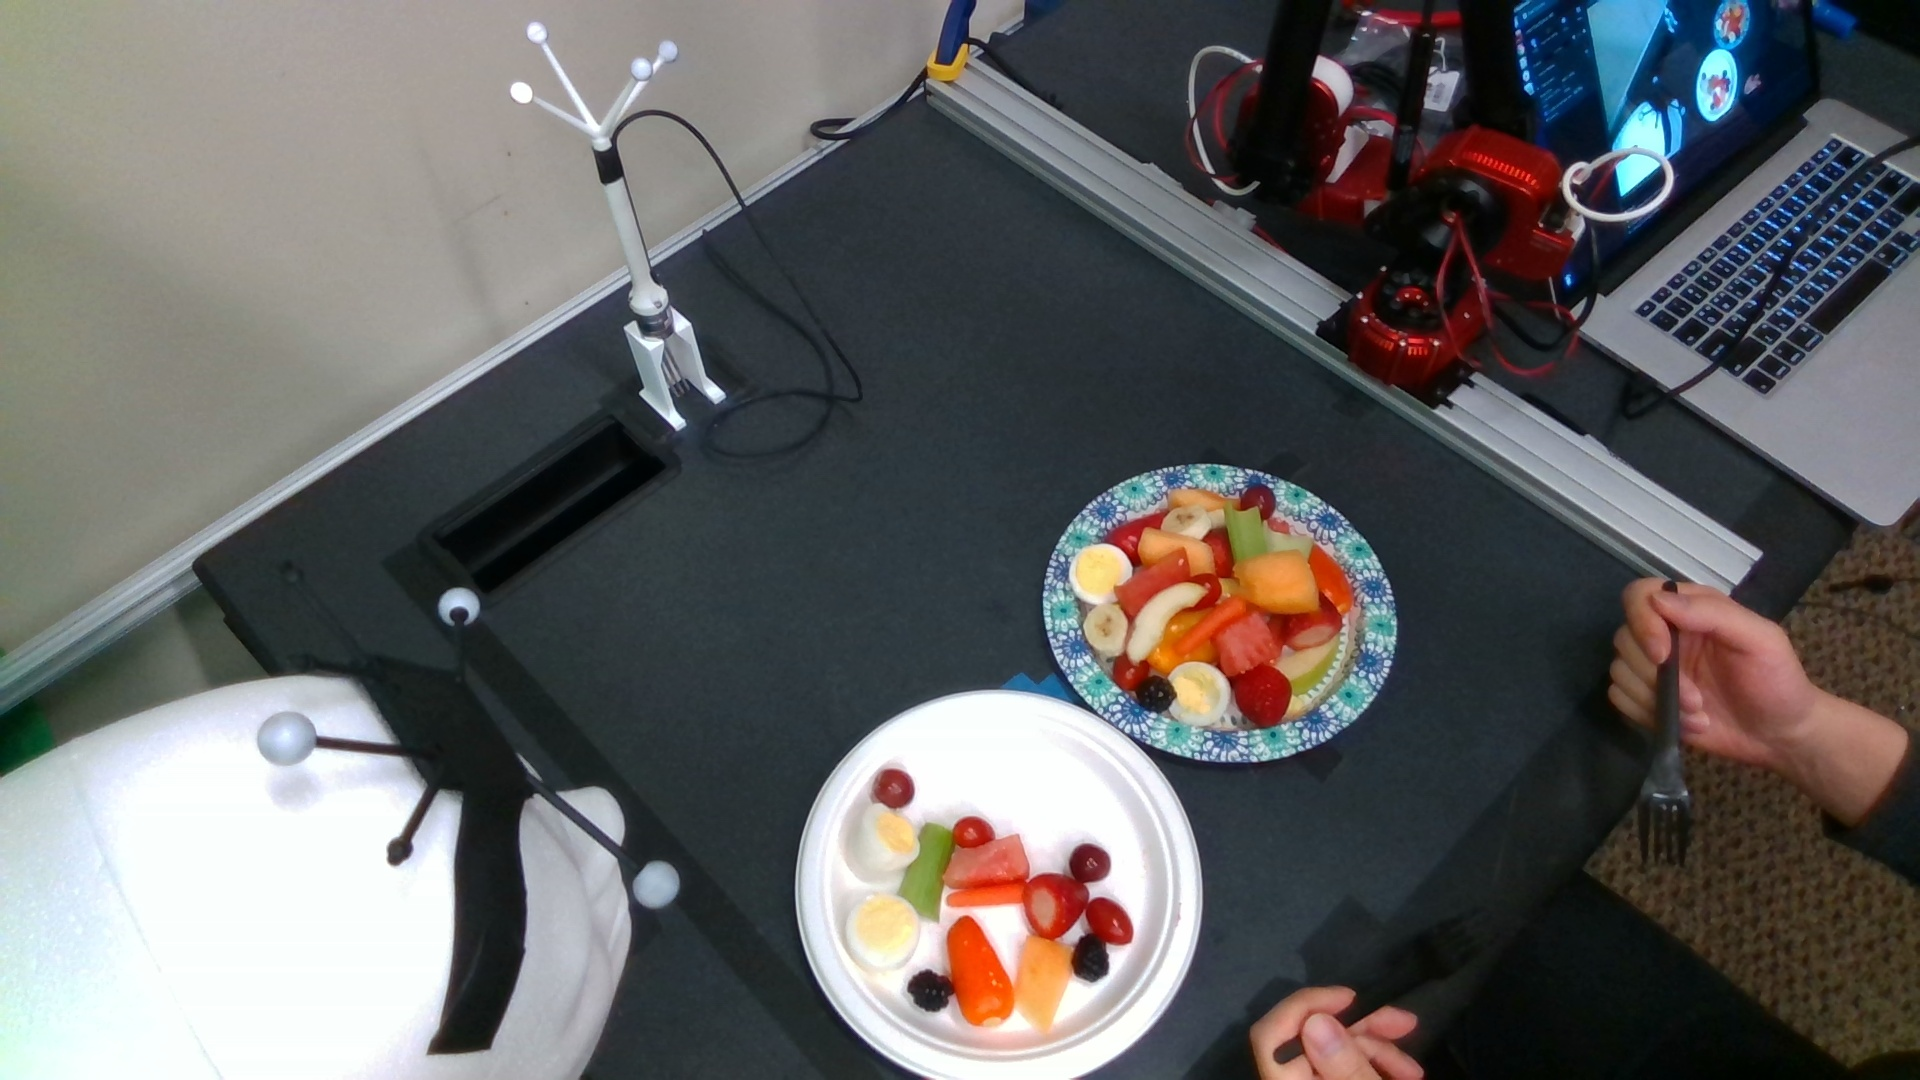apple: (1127, 588, 1203, 657), (1287, 636, 1340, 698)
banana: (1077, 605, 1131, 659), (1160, 504, 1212, 538)
bell_pepper: (943, 916, 1013, 1029), (1311, 550, 1356, 618)
blackberry: (1069, 935, 1114, 981), (905, 971, 952, 1011), (1138, 680, 1176, 712)
cantalope: (1005, 940, 1083, 1029), (1240, 539, 1320, 617), (1138, 527, 1218, 575)
carrot: (944, 882, 1025, 907)
celery: (901, 825, 961, 919), (1222, 504, 1265, 568)
cherry_tomato: (1083, 898, 1134, 947), (1240, 481, 1278, 525), (952, 812, 996, 848)
egg: (844, 800, 923, 885), (841, 895, 924, 971), (1167, 659, 1230, 723), (1069, 545, 1131, 600)
grape: (870, 767, 918, 808), (1072, 847, 1106, 880)
melon: (1112, 550, 1195, 611), (944, 840, 1029, 887), (1213, 615, 1276, 673)
plate: (795, 690, 1215, 1080), (1040, 464, 1398, 766)
strawberry: (1022, 872, 1084, 934), (1232, 665, 1294, 727)
